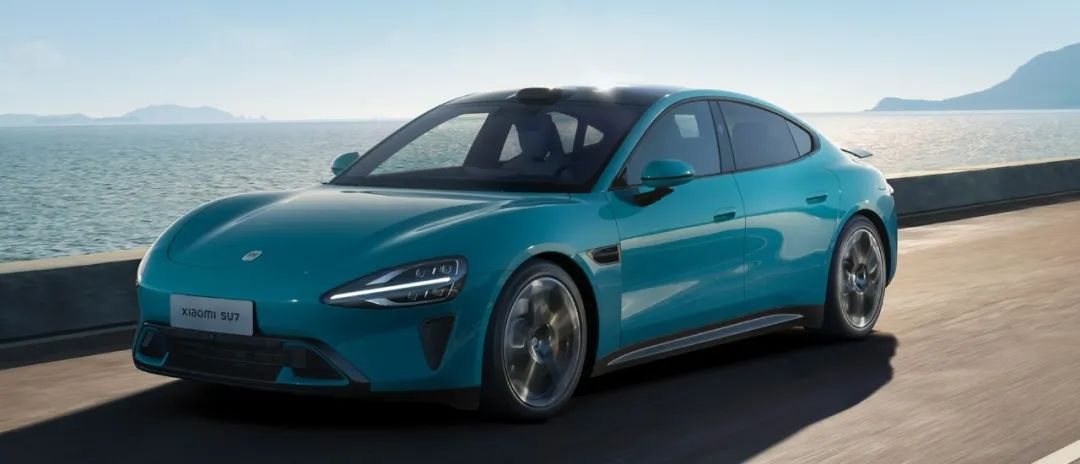su7: (147, 79, 906, 409)
